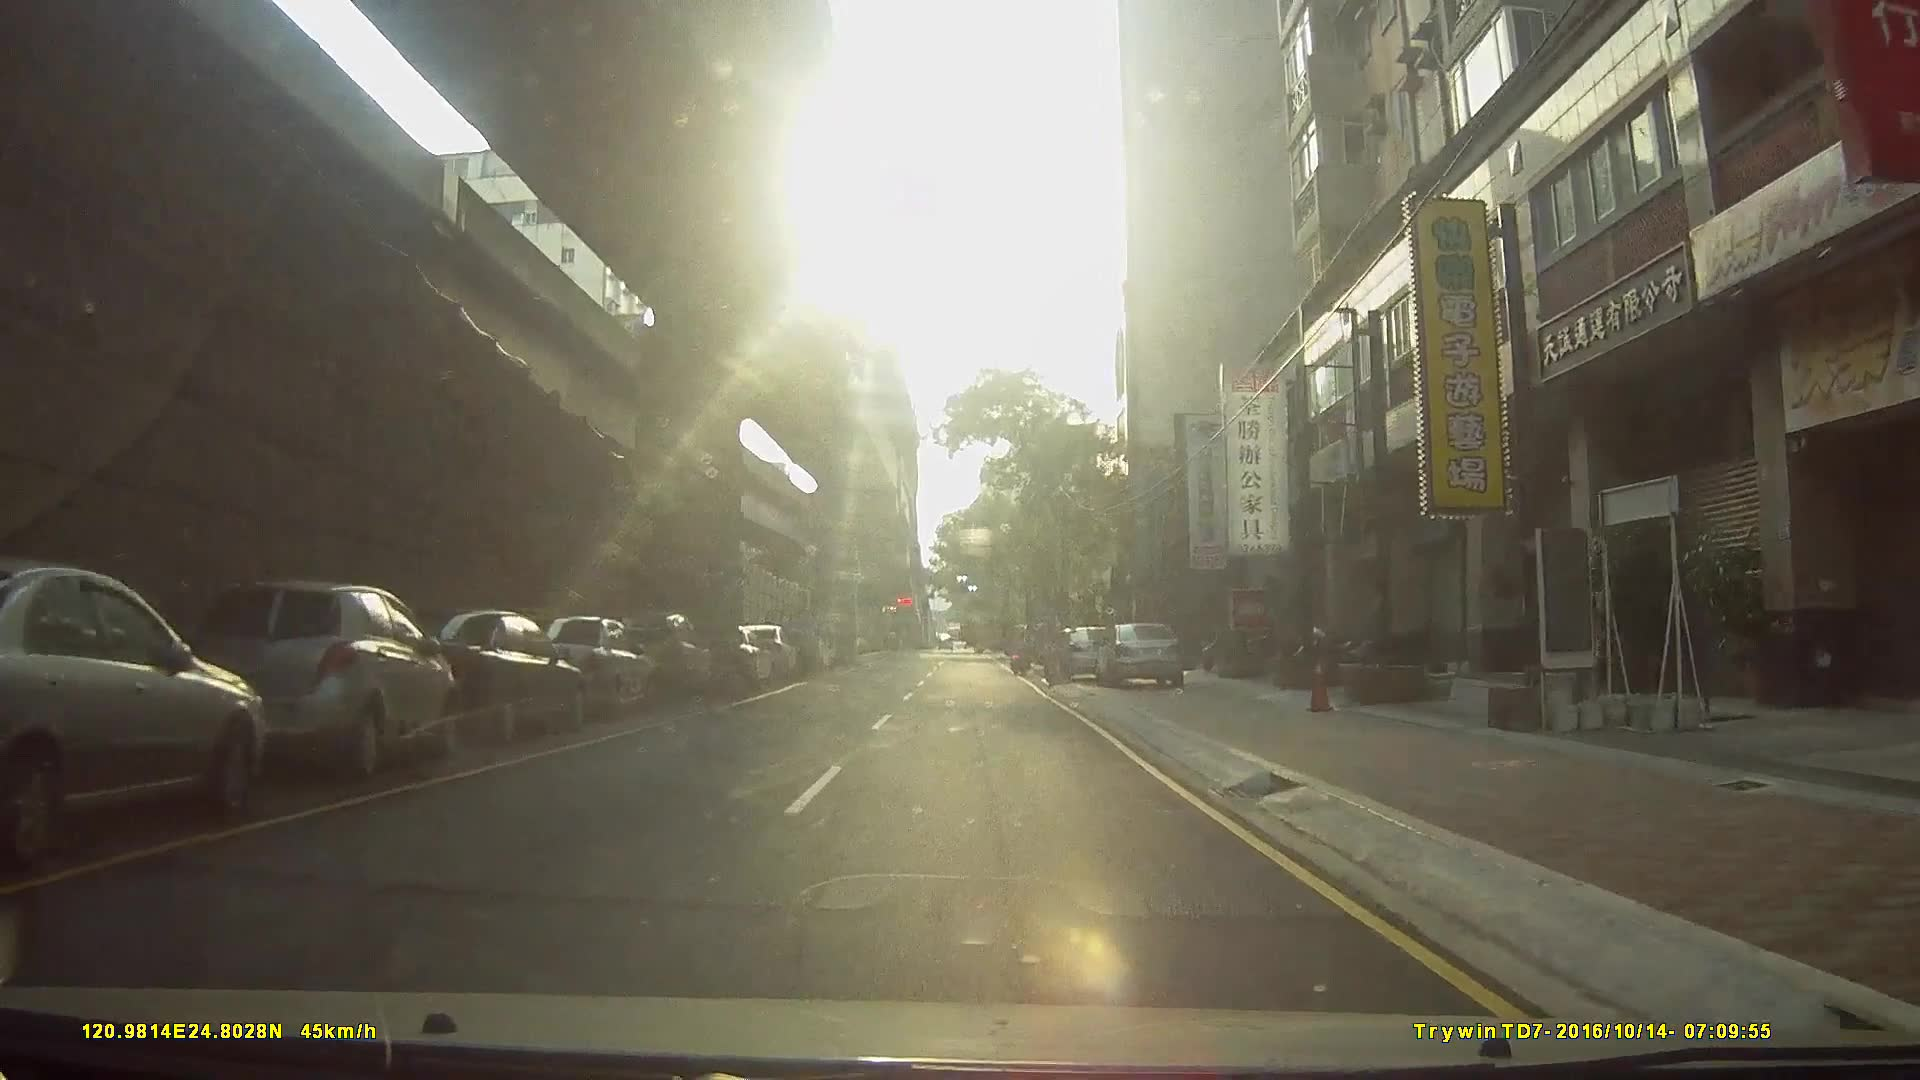vehicle: (1, 551, 282, 852), (152, 576, 444, 787), (389, 609, 579, 752), (517, 615, 651, 723), (603, 609, 712, 711), (1089, 620, 1187, 691), (1042, 624, 1121, 684), (762, 608, 818, 680), (961, 618, 1034, 655)
